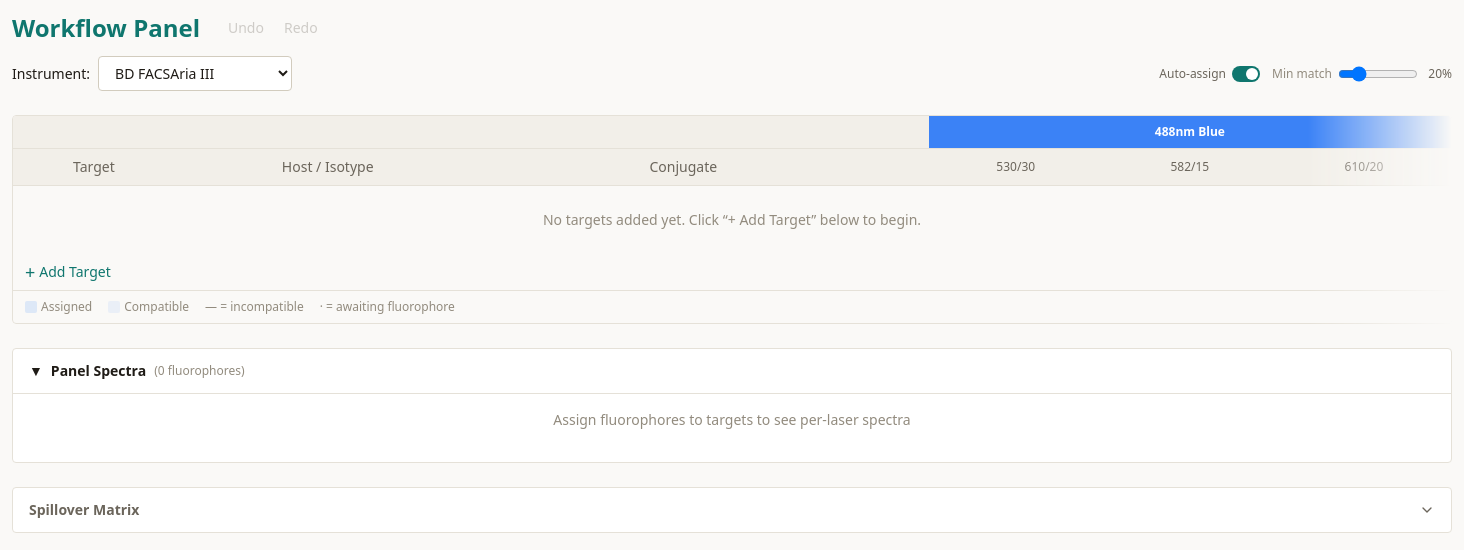
it: Panel Workflow Integration › clicking "+ Add Target" creates a pending row with omnibox
Click the button "+ Add Target": [68, 272] box x1=25 y1=262 x2=111 y2=282
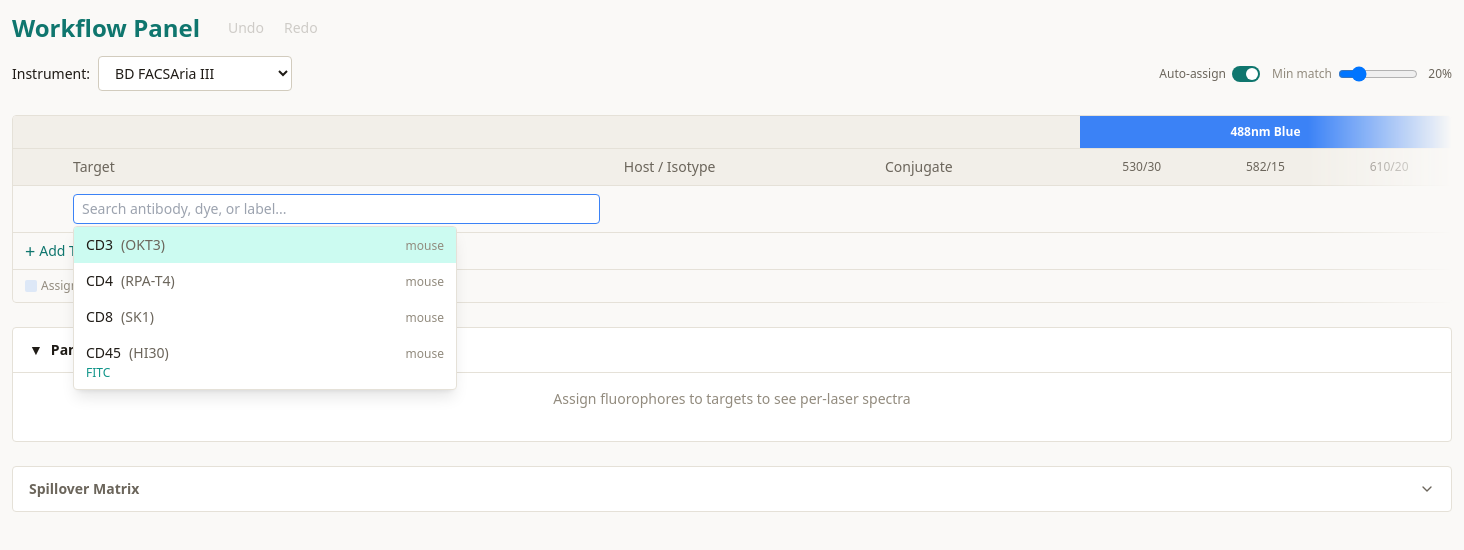
Check: the field with placeholder "Search antibody, dye, or label..." is shown, box x1=73 y1=194 x2=600 y2=224
